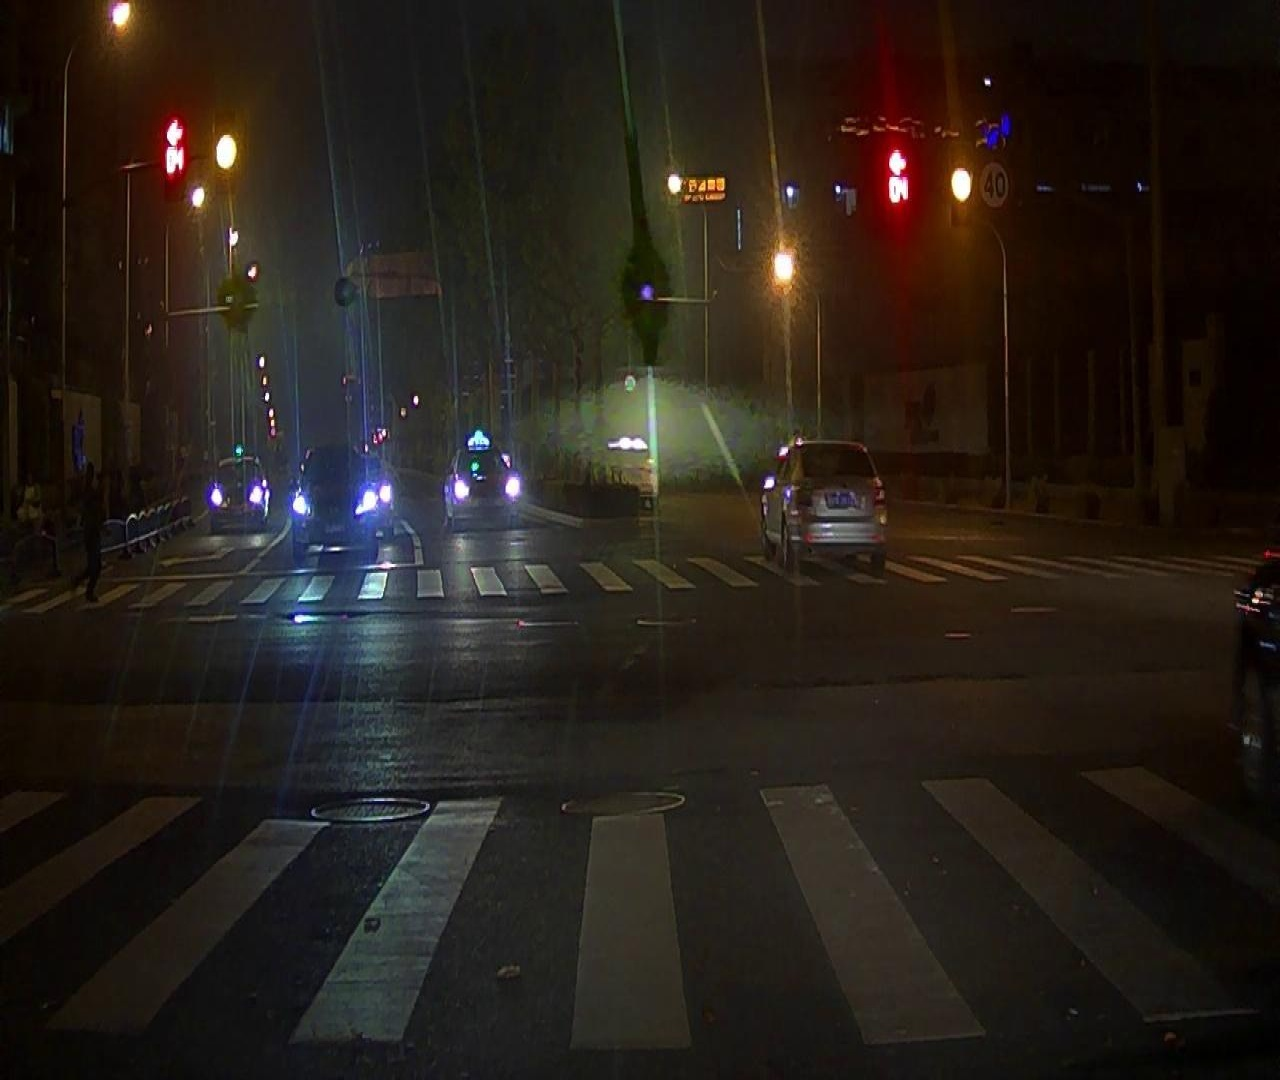red: (886, 147, 912, 234), (166, 112, 185, 190)
yellow: (214, 112, 239, 189), (952, 148, 972, 225)
